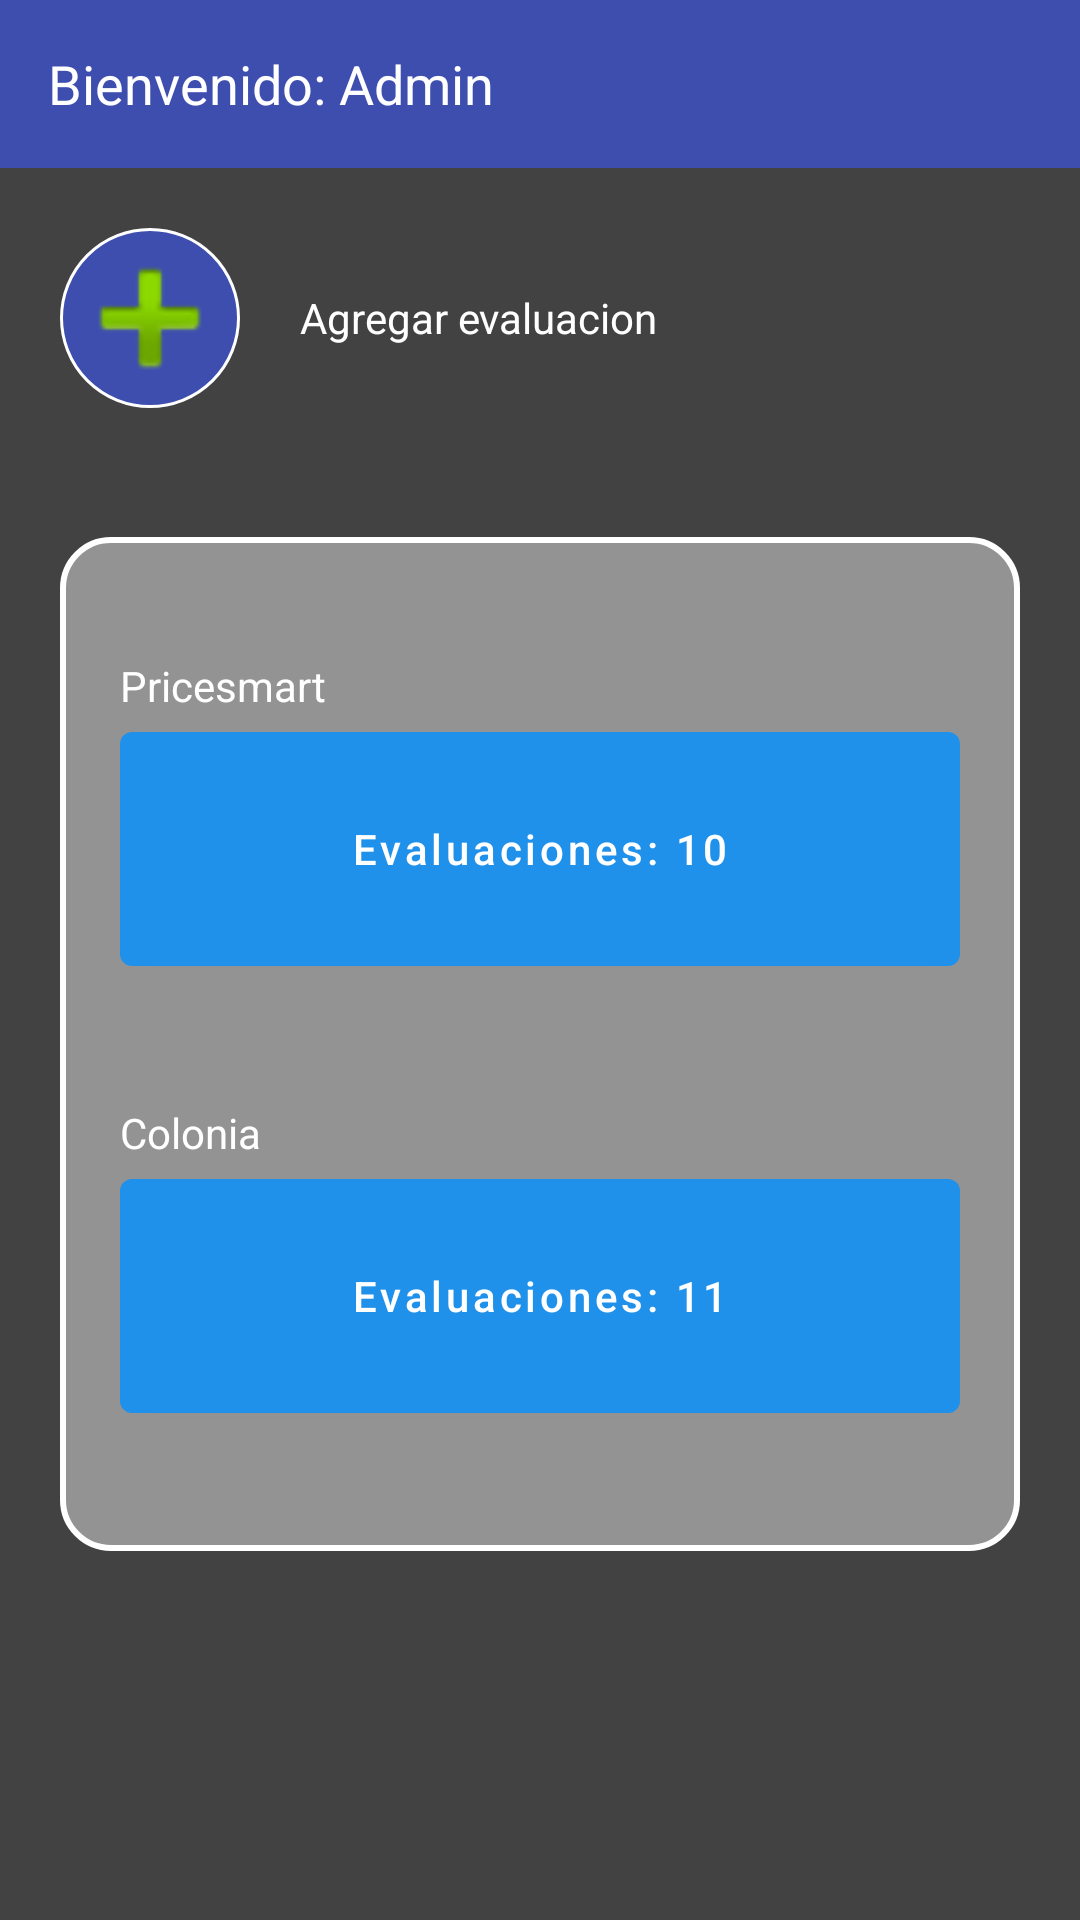

Point at icon controls on the screen. Image size 1080 x 1920, points as (x,y).
add: (150,318)
